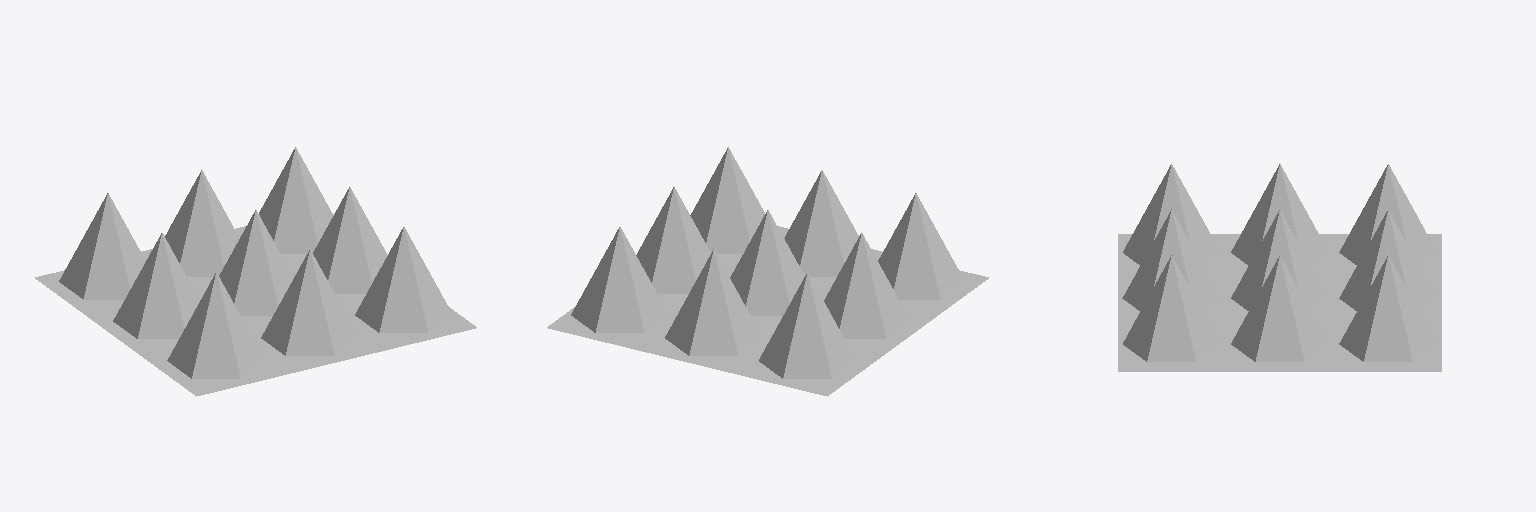
The model's file is spikesLight.obj.
3 renders of one model, left to right at view 1: azimuth 30°, elevation 25°; view 2: azimuth 150°, elevation 25°; view 3: azimuth 270°, elevation 25°, orthographic.
Visible parts, largest first — view 1: Plane, Cone.008_Cone.018, Cone.005_Cone.016, Cone.006_Cone.017, Cone.002_Cone.013, Cone.004_Cone.015, Cone.003_Cone.014, Cone.000_Cone.011, Cone.001_Cone.012, Cone.007_Cone.010; view 2: Plane, Cone.002_Cone.013, Cone.000_Cone.011, Cone.001_Cone.012, Cone.008_Cone.018, Cone.004_Cone.015, Cone.003_Cone.014, Cone.005_Cone.016, Cone.006_Cone.017, Cone.007_Cone.010; view 3: Plane, Cone.003_Cone.014, Cone.006_Cone.017, Cone.001_Cone.012, Cone.005_Cone.016, Cone.000_Cone.011, Cone.004_Cone.015, Cone.008_Cone.018, Cone.002_Cone.013, Cone.007_Cone.010.
Boxes of the visible parts, x1,y1,x2,y2 form: Plane: [35, 226, 476, 396]; Cone.008_Cone.018: [167, 272, 264, 378]; Cone.005_Cone.016: [261, 249, 358, 355]; Cone.006_Cone.017: [355, 227, 452, 332]; Cone.002_Cone.013: [59, 193, 145, 299]; Cone.004_Cone.015: [113, 233, 199, 338]; Cone.003_Cone.014: [313, 187, 387, 293]; Cone.000_Cone.011: [165, 170, 239, 276]; Cone.001_Cone.012: [259, 147, 333, 253]; Cone.007_Cone.010: [219, 210, 293, 315]; Plane: [547, 226, 988, 396]; Cone.002_Cone.013: [759, 272, 856, 378]; Cone.000_Cone.011: [665, 249, 762, 355]; Cone.001_Cone.012: [571, 227, 668, 332]; Cone.008_Cone.018: [878, 193, 964, 299]; Cone.004_Cone.015: [824, 233, 910, 338]; Cone.003_Cone.014: [636, 187, 710, 293]; Cone.005_Cone.016: [784, 170, 858, 276]; Cone.006_Cone.017: [690, 147, 764, 253]; Cone.007_Cone.010: [730, 210, 804, 315]; Plane: [1118, 234, 1441, 371]; Cone.003_Cone.014: [1231, 256, 1328, 361]; Cone.006_Cone.017: [1123, 255, 1220, 361]; Cone.001_Cone.012: [1339, 255, 1436, 361]; Cone.005_Cone.016: [1122, 209, 1220, 310]; Cone.000_Cone.011: [1339, 209, 1437, 310]; Cone.004_Cone.015: [1231, 164, 1328, 265]; Cone.008_Cone.018: [1123, 164, 1220, 265]; Cone.002_Cone.013: [1339, 164, 1436, 265]; Cone.007_Cone.010: [1231, 210, 1328, 310].
Size of the model in its own units: 3 by 0.955 by 3.